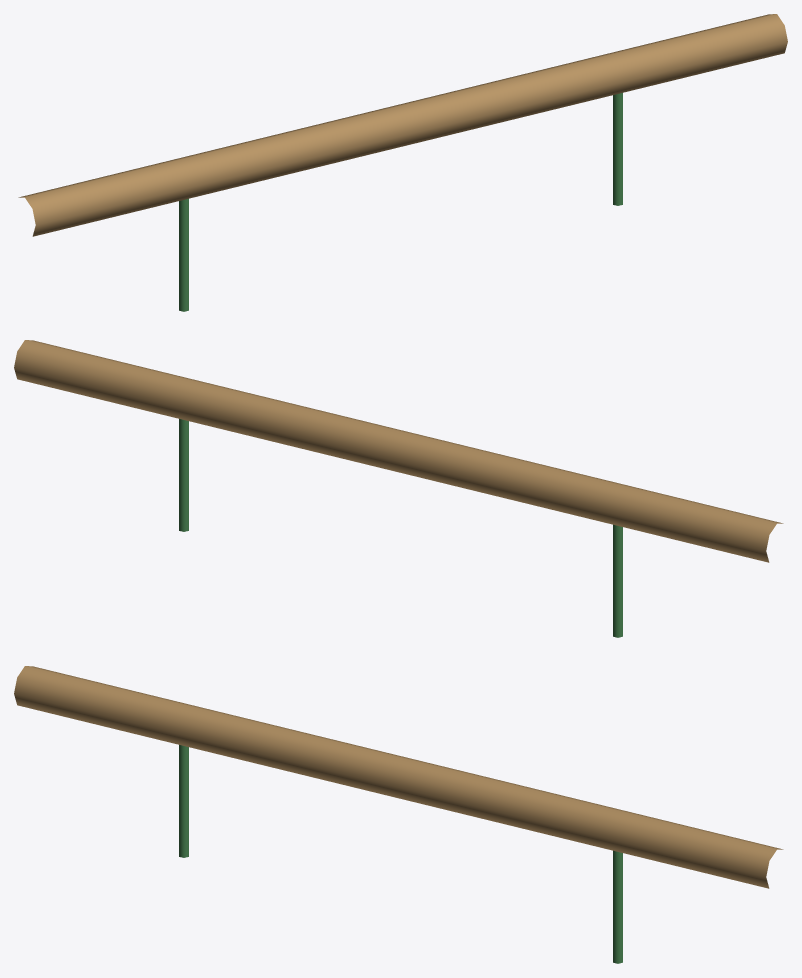
Rendered from slide_barrier.glb.
3 views of the same model, one above another, from view 1: azimuth 30°, elevation 25°; view 2: azimuth 150°, elevation 25°; view 3: azimuth 330°, elevation 25° (orthographic).
Parts seen in each view (by area): view 1: slide_barrier; view 2: slide_barrier; view 3: slide_barrier.
Part boxes in pixels (left/top/right/bottom): slide_barrier: left=18, top=14, right=787, bottom=311; slide_barrier: left=14, top=340, right=783, bottom=637; slide_barrier: left=14, top=666, right=783, bottom=963.
Bounding box in the file's own units: 5.2 × 0.995 × 0.26.
